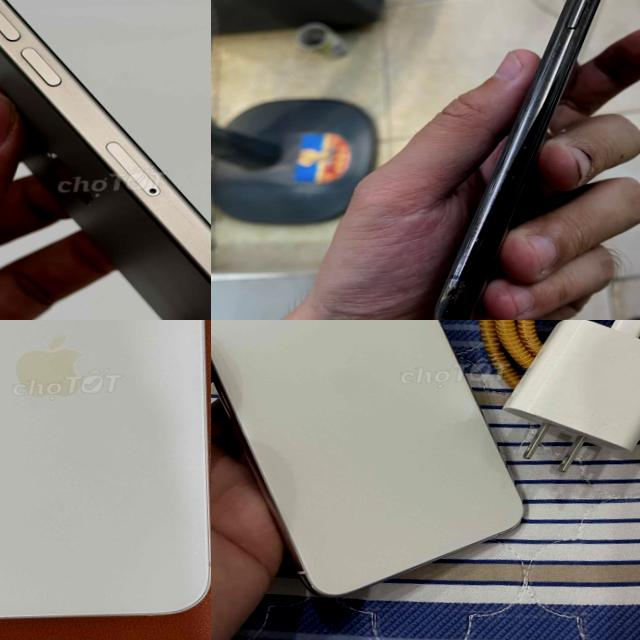scratch: (546, 0, 595, 53), (437, 269, 480, 320), (499, 140, 535, 187)
